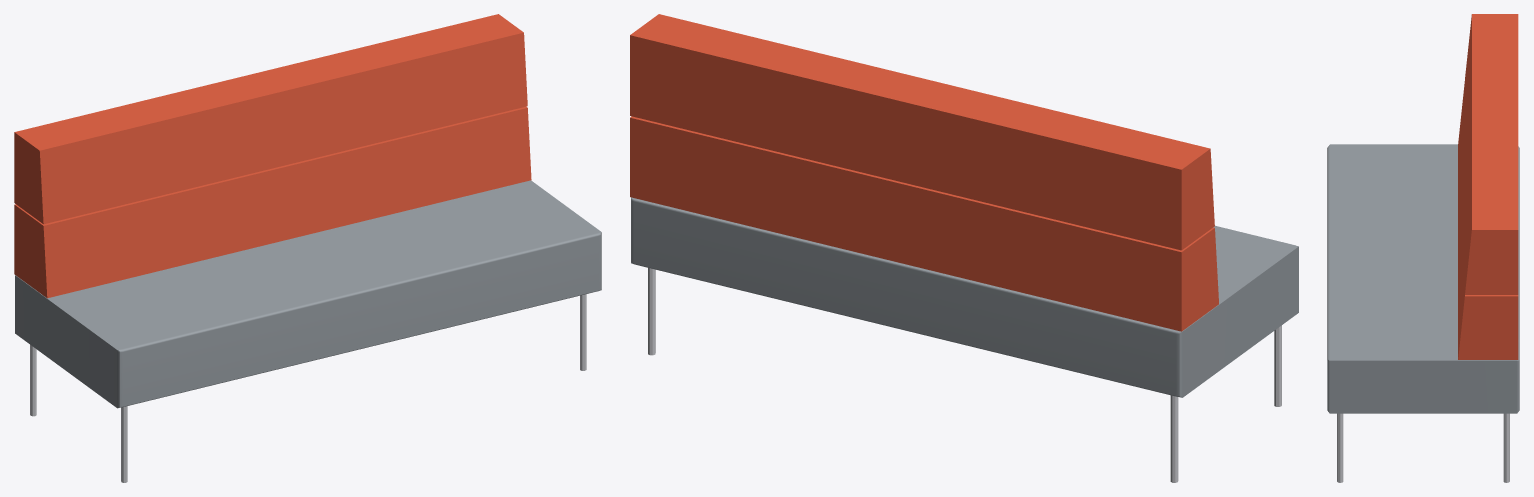
File: newbookarchive_sofa2.fbx
3 renders of one model, left to right at view 1: azimuth 30°, elevation 25°; view 2: azimuth 150°, elevation 25°; view 3: azimuth 270°, elevation 25°, orthographic. The views are drawn at different scales.
Visible parts, largest first — view 1: newbookarchive_sofa2; view 2: newbookarchive_sofa2; view 3: newbookarchive_sofa2.
Part boxes in pixels (<box>): newbookarchive_sofa2: <box>14,14,601,482</box>; newbookarchive_sofa2: <box>630,14,1298,482</box>; newbookarchive_sofa2: <box>1327,14,1519,482</box>.
Bounding box in the file's own units: 0.0106 × 0.00587 × 0.00398.
1 material, 1 textured.
